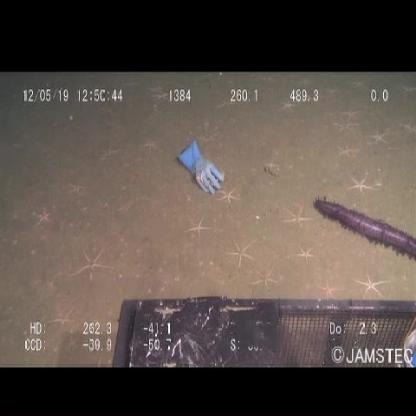Bio: (311, 191, 416, 255)
Rov: (109, 292, 416, 366)
Rác: (174, 136, 234, 207)
